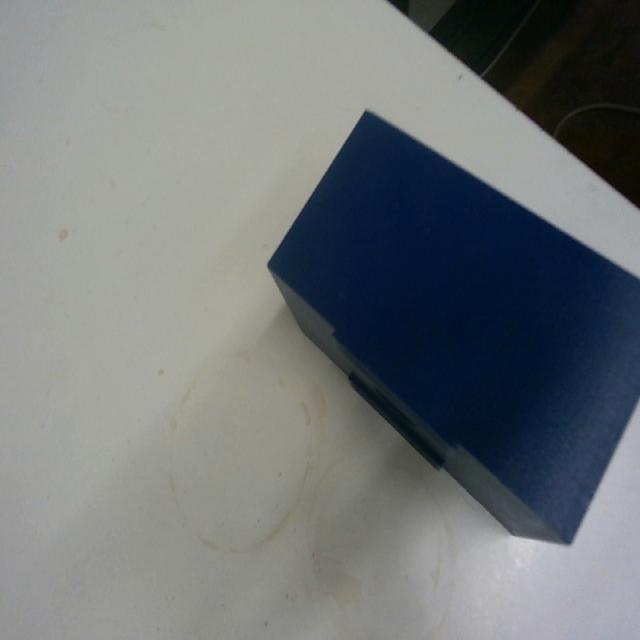Blue Cuboid: (265, 105, 639, 547)
